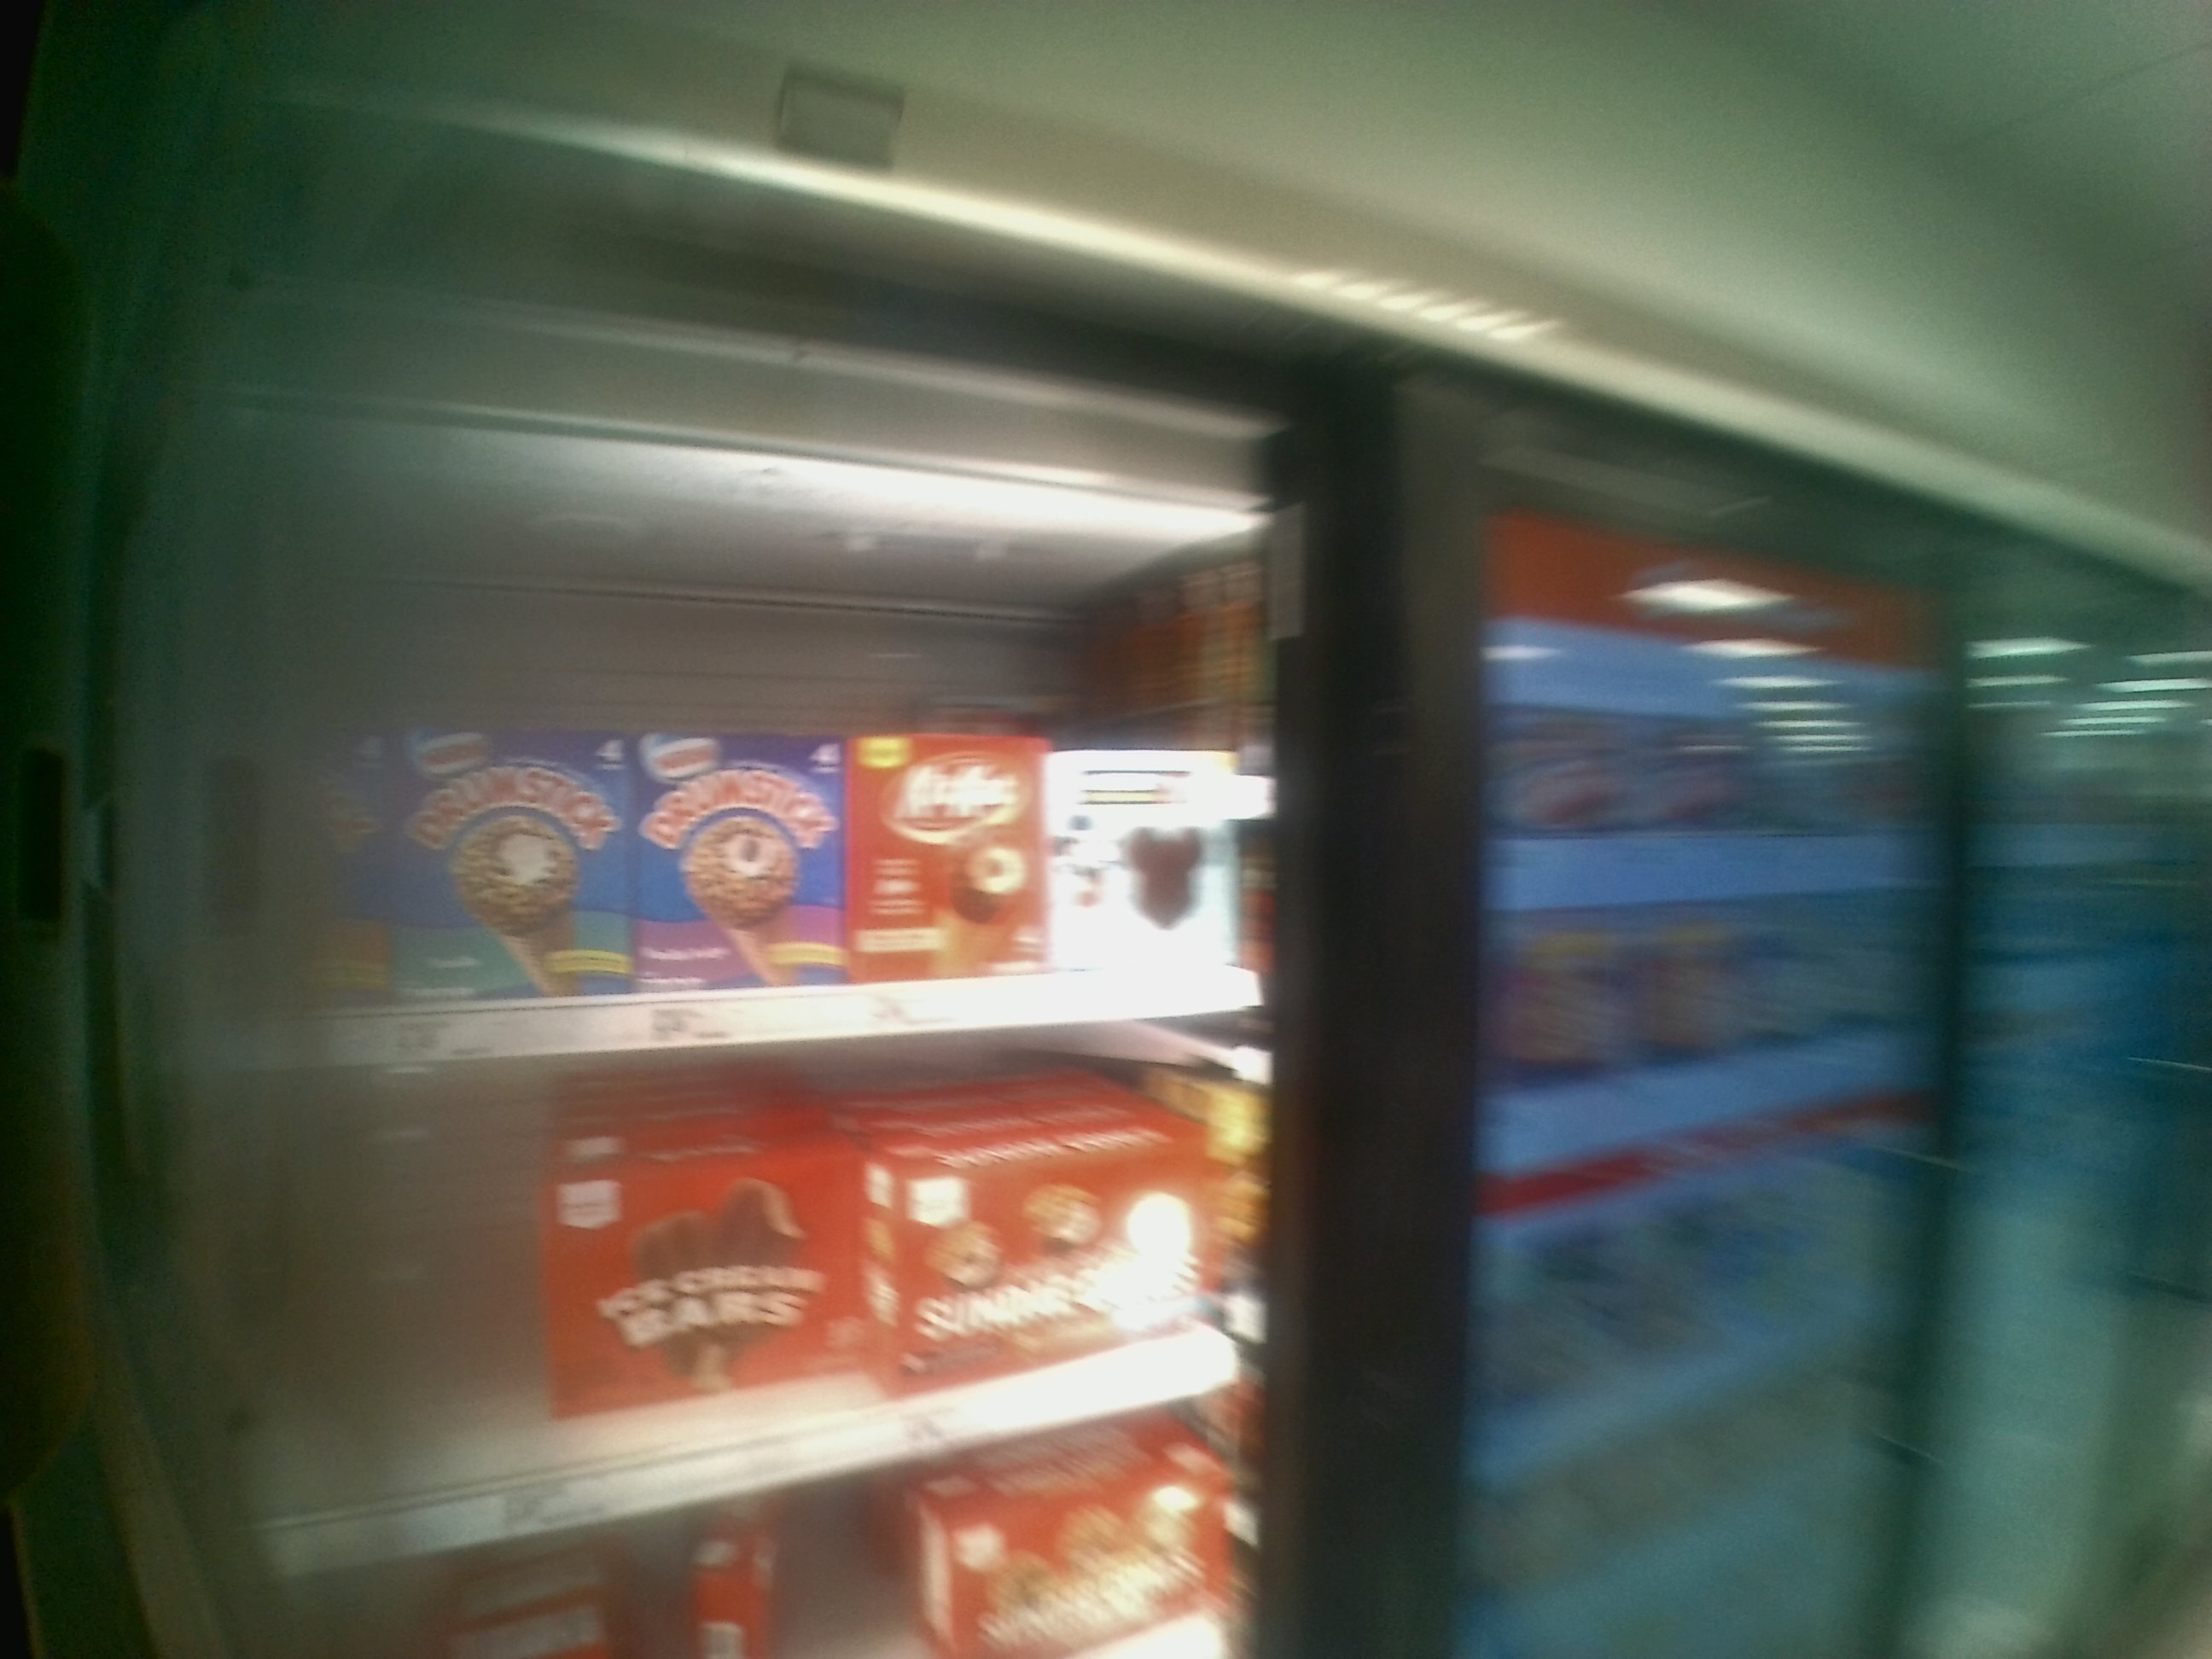shelf: (172, 528, 1268, 1060)
